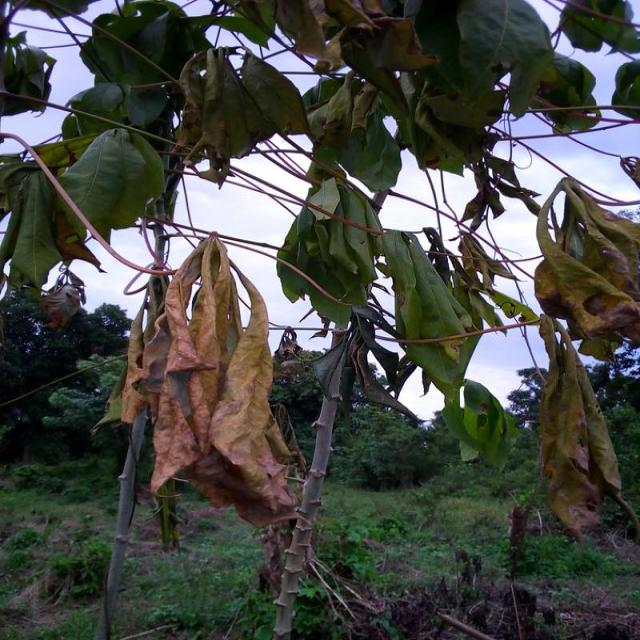cassava leaf: (122, 229, 302, 527), (537, 314, 639, 546), (534, 175, 640, 360), (382, 227, 483, 398), (277, 174, 385, 327), (56, 125, 166, 246), (442, 378, 518, 470)
